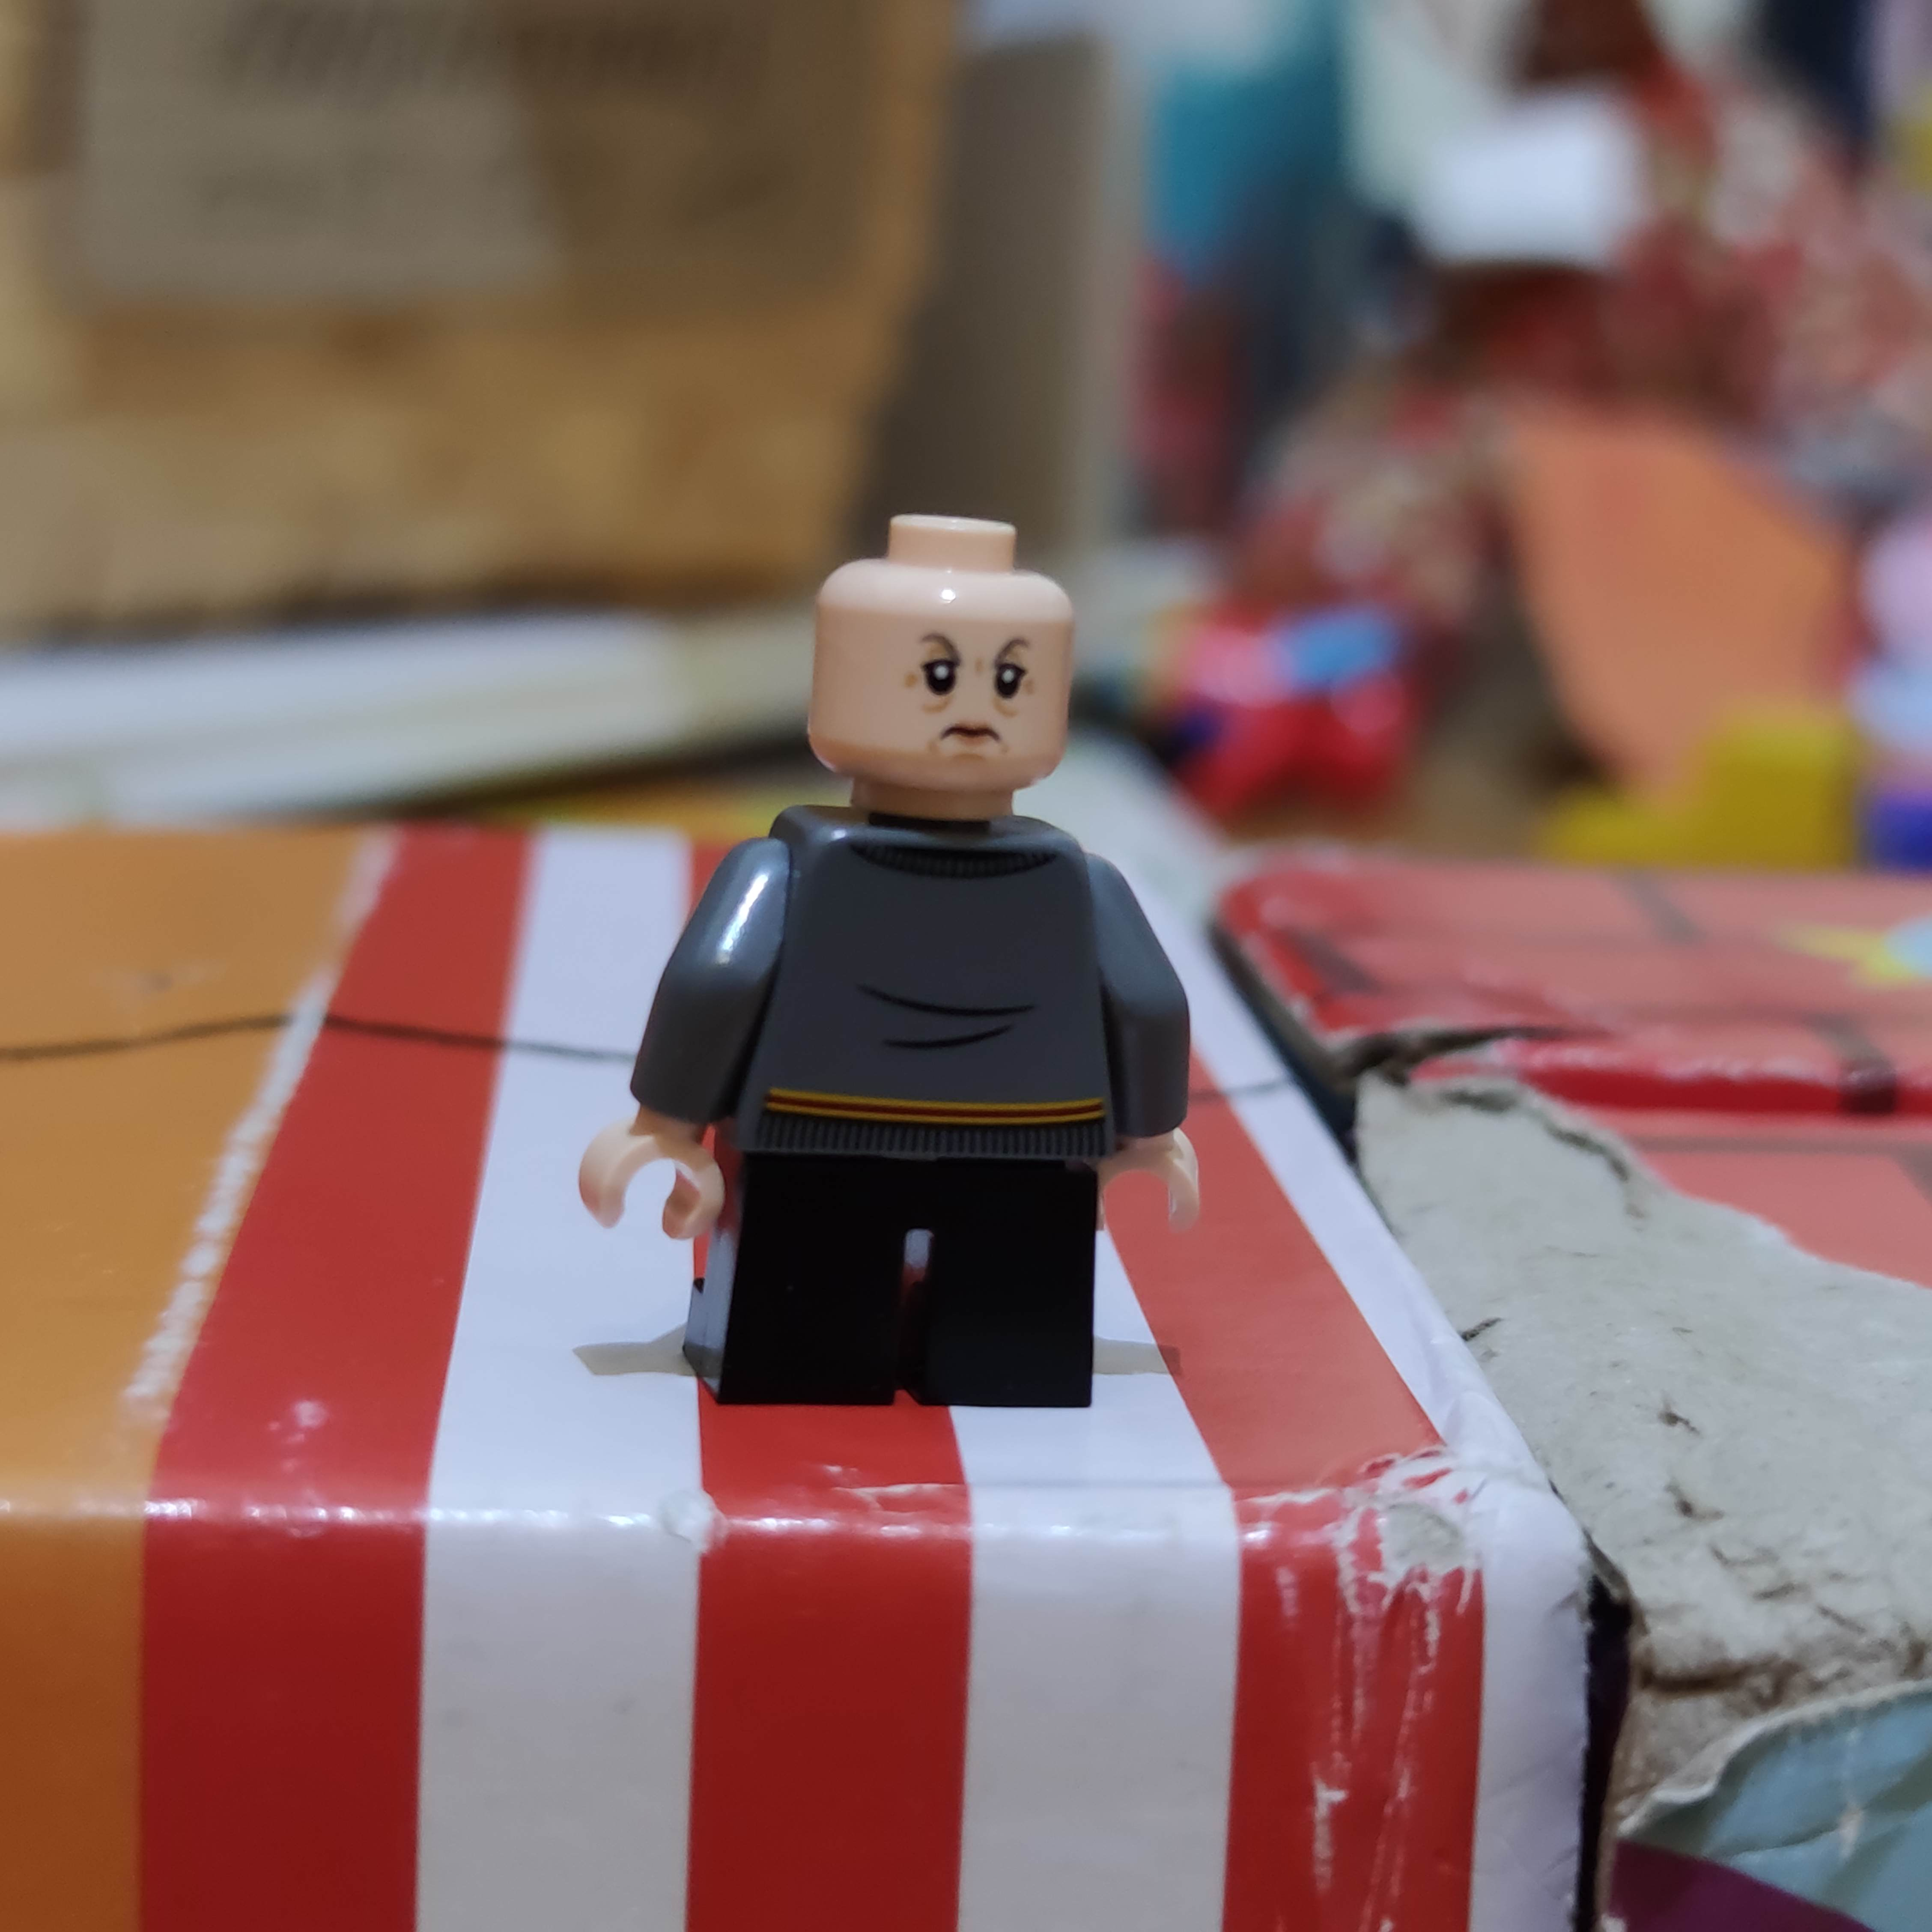lego: (580, 501, 1217, 1421)
